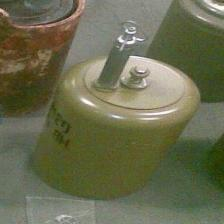OZM-72: (46, 43, 189, 206)
